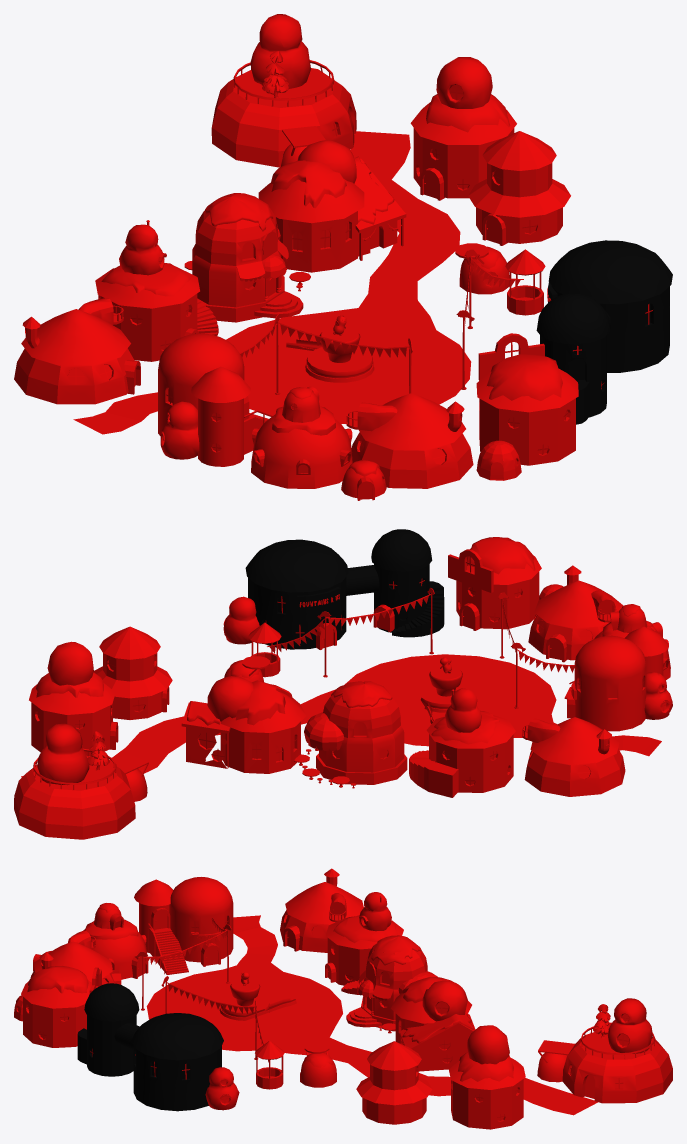
File: Neighborhood_IceBreakerAlley_03.glb
The picture shows the model from 3 angles, top to bottom: view 1: azimuth 30°, elevation 25°; view 2: azimuth 150°, elevation 25°; view 3: azimuth 270°, elevation 25°; orthographic projection. The views are drawn at different scales.
Parts seen in each view (by area): view 1: Object_Road, pasted__pasted__pCube28, pasted__Igloo05, pasted__Igloo04, pasted__polySurface27, pasted__polySurface24, pasted__Igloo03, pasted__Igloo01, pasted__Igloo02, pasted__Igloo06, pasted__pasted__pCylinder4, pasted__polySurface22 (+8 smaller); view 2: pasted__pasted__pCube28, Object_Road, pasted__Igloo05, pasted__Igloo04, pasted__Igloo03, pasted__polySurface24, pasted__Igloo02, pasted__polySurface27, pasted__Igloo01, pasted__Igloo06, pasted__pasted__pCylinder4, pasted__pasted__Igloo04_pCylinder3 (+8 smaller); view 3: Object_Road, pasted__pasted__pCube28, pasted__Igloo05, pasted__polySurface24, pasted__Igloo04, pasted__polySurface27, pasted__pasted__Igloo04_pCylinder3, pasted__Igloo03, pasted__pasted__pCylinder4, pasted__Igloo02, pasted__Igloo01, pasted__polySurface22 (+8 smaller).
Boxes of the visible parts, bbox=[...] form: Object_Road: bbox=[73, 131, 471, 434]; pasted__pasted__pCube28: bbox=[536, 240, 672, 424]; pasted__Igloo05: bbox=[211, 14, 356, 167]; pasted__Igloo04: bbox=[258, 140, 406, 272]; pasted__polySurface27: bbox=[476, 333, 578, 480]; pasted__polySurface24: bbox=[158, 333, 272, 466]; pasted__Igloo03: bbox=[184, 193, 310, 322]; pasted__Igloo01: bbox=[14, 298, 140, 404]; pasted__Igloo02: bbox=[95, 220, 218, 361]; pasted__Igloo06: bbox=[346, 393, 473, 488]; pasted__pasted__pCylinder4: bbox=[468, 131, 570, 243]; pasted__polySurface22: bbox=[251, 386, 352, 488]; pasted__pasted__pCube28: bbox=[245, 529, 444, 649]; Object_Road: bbox=[21, 654, 661, 777]; pasted__Igloo05: bbox=[14, 723, 148, 839]; pasted__Igloo04: bbox=[181, 676, 306, 773]; pasted__Igloo03: bbox=[294, 681, 407, 788]; pasted__polySurface24: bbox=[564, 626, 672, 731]; pasted__Igloo02: bbox=[409, 688, 515, 797]; pasted__polySurface27: bbox=[448, 537, 563, 630]; pasted__Igloo01: bbox=[522, 717, 625, 796]; pasted__Igloo06: bbox=[528, 565, 623, 662]; pasted__pasted__pCylinder4: bbox=[93, 626, 172, 719]; pasted__pasted__Igloo04_pCylinder3: bbox=[29, 672, 115, 755]; Object_Road: bbox=[146, 915, 597, 1115]; pasted__pasted__pCube28: bbox=[77, 983, 223, 1111]; pasted__Igloo05: bbox=[537, 998, 672, 1103]; pasted__polySurface24: bbox=[134, 877, 233, 974]; pasted__Igloo04: bbox=[391, 977, 475, 1071]; pasted__polySurface27: bbox=[14, 966, 101, 1047]; pasted__pasted__Igloo04_pCylinder3: bbox=[449, 1052, 525, 1129]; pasted__Igloo03: bbox=[346, 935, 437, 1033]; pasted__pasted__pCylinder4: bbox=[356, 1041, 432, 1124]; pasted__Igloo02: bbox=[325, 892, 403, 994]; pasted__Igloo01: bbox=[280, 868, 363, 952]; pasted__polySurface22: bbox=[83, 903, 148, 979].
Size of the model in its own units: 42.03 by 8.45 by 54.31.
